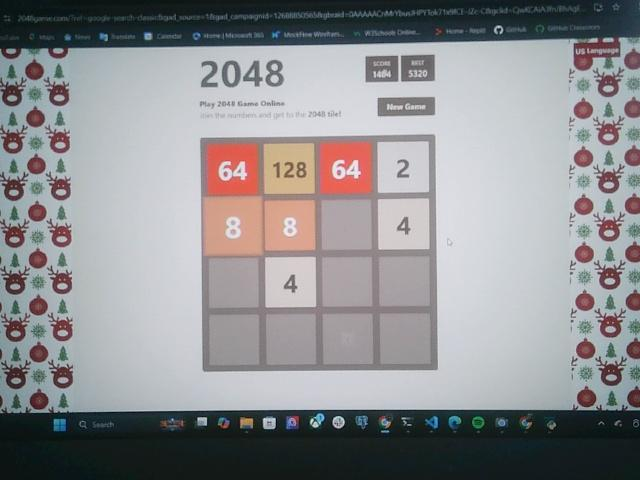board: (202, 137, 438, 370)
tile: (203, 196, 262, 256), (320, 143, 373, 194), (378, 141, 429, 193), (264, 143, 315, 194), (265, 257, 316, 308), (265, 201, 316, 251), (379, 199, 429, 250), (207, 144, 258, 193)
